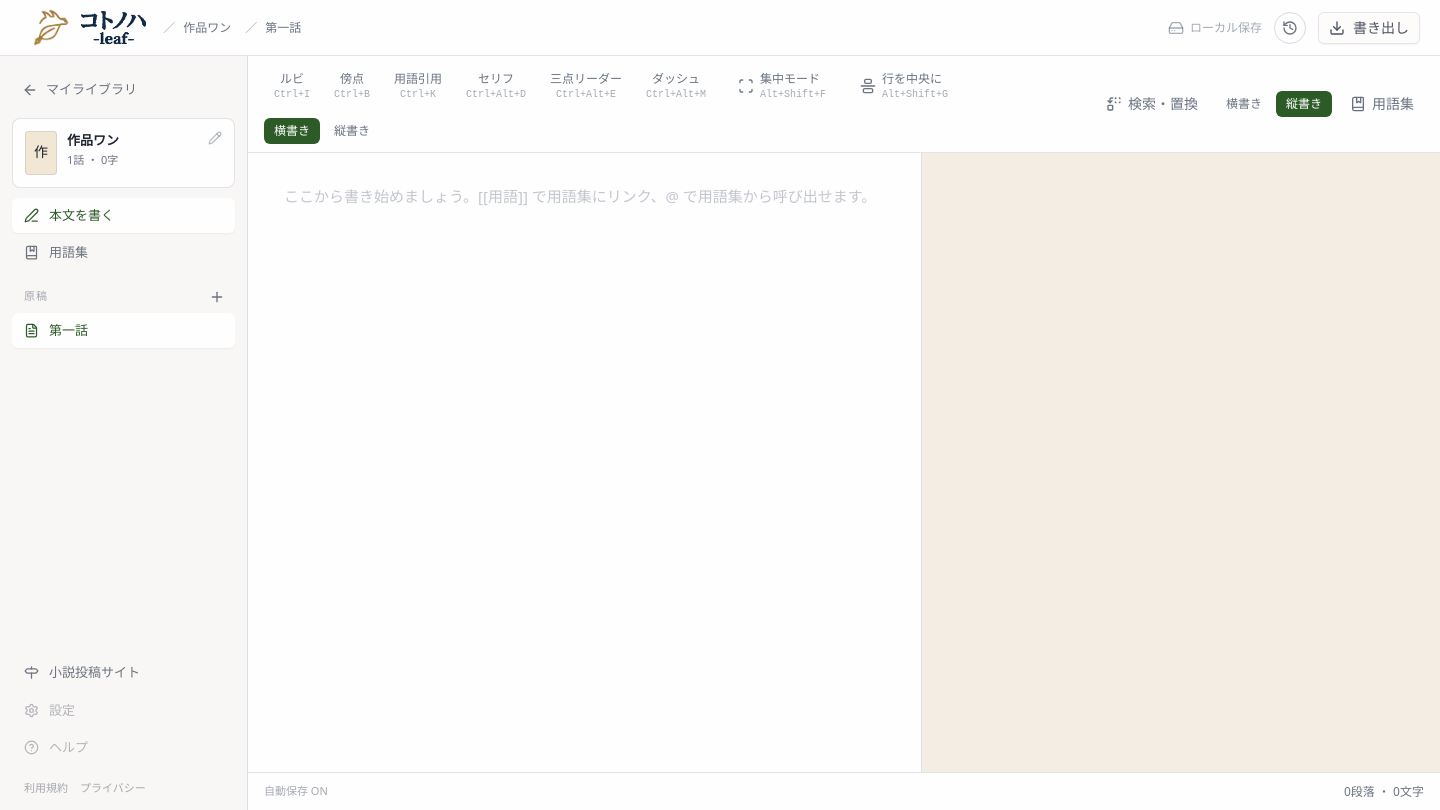
Test case: App（エディタ結合：本文/プレビュー・自動保存・履歴） › プレビューの解決済み @参照をクリックすると用語集パネルに用語のチラ見が出る
Replace the text in the text box named "本文" with "[ [アリス]]が来た" at coordinates (585, 462), box [248, 153, 921, 772]
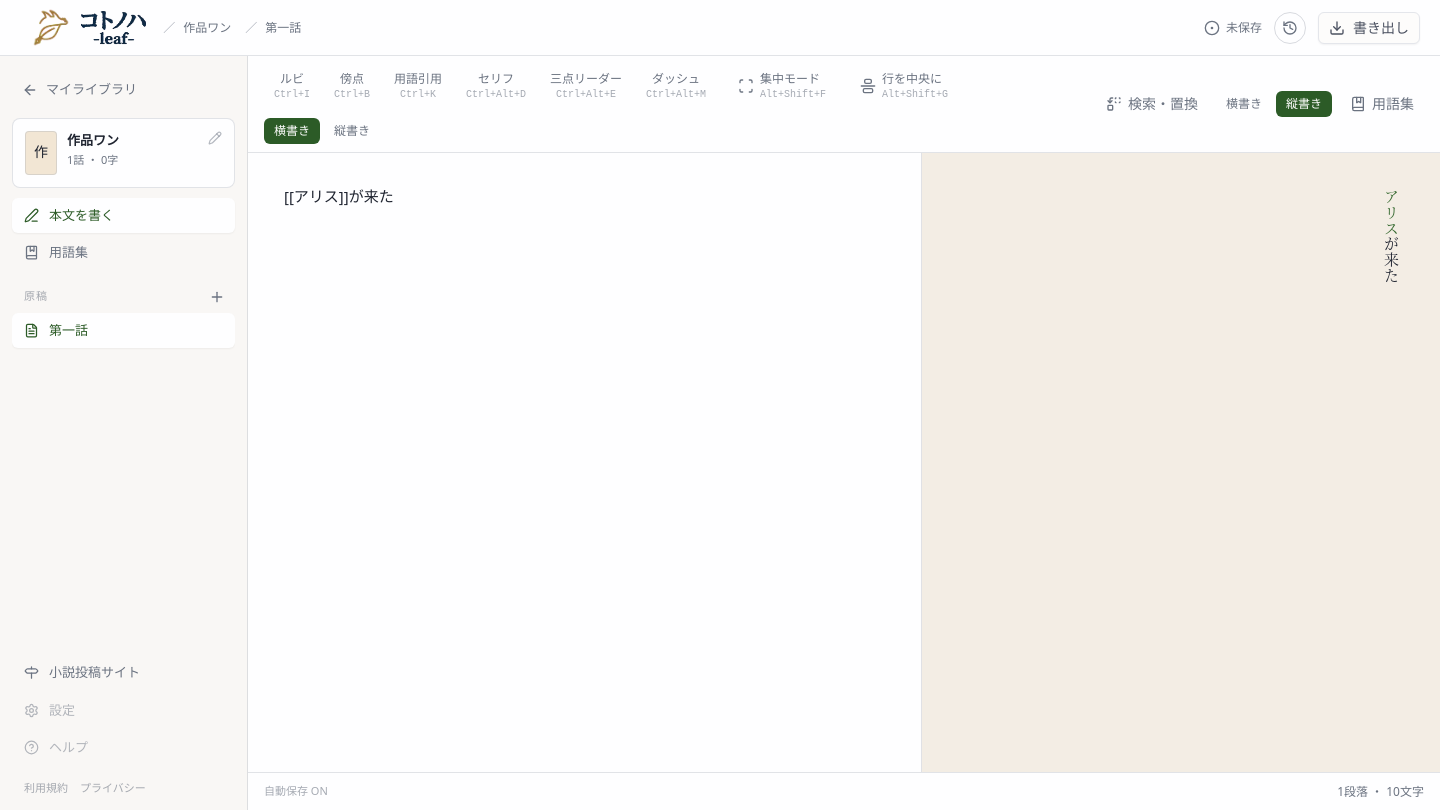
Click the link with class "ref".
click(1392, 213)  # box [1381, 189, 1402, 236]
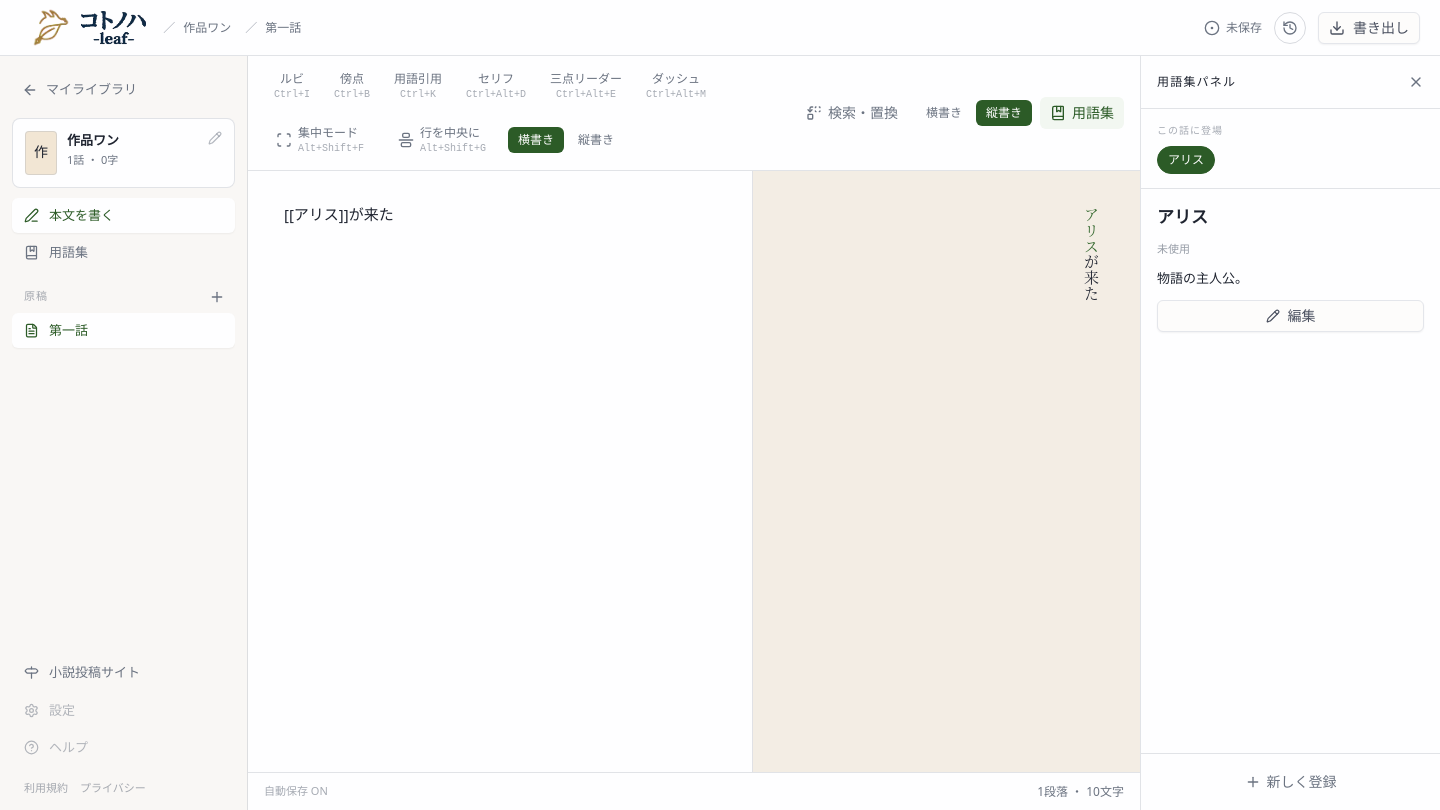
Check: the heading "アリス" is shown, box [1157, 205, 1208, 230]
Check: the text "物語の主人公。" is shown, box [1157, 269, 1248, 287]
// 閉じるとパネルが消える
Click the button named "用語集パネルを閉じる".
click(1416, 82)  # box [1402, 68, 1430, 96]
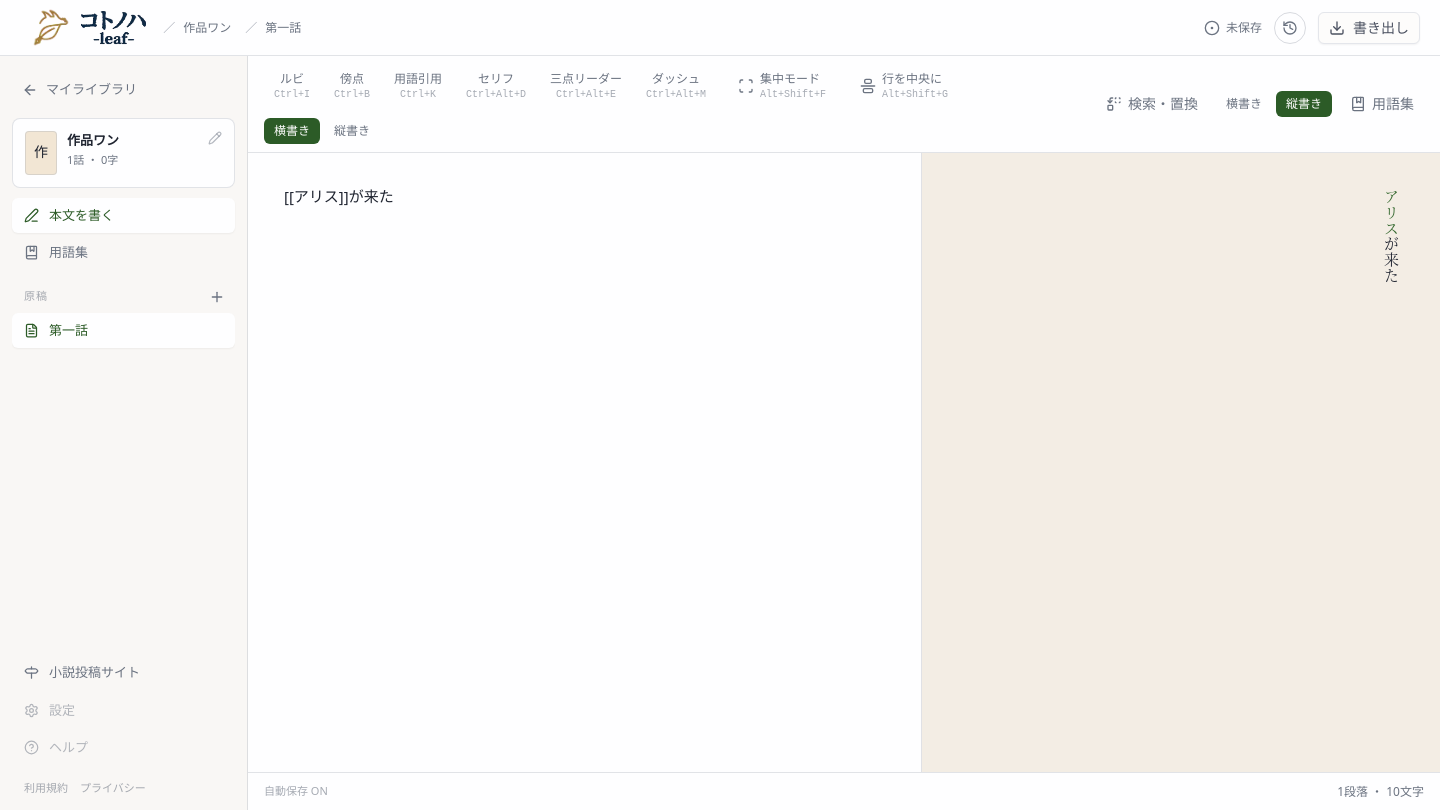
Check: the text "物語の主人公。" is gone
